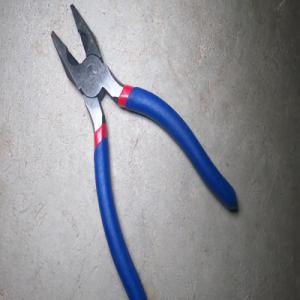Pliers: (50, 3, 238, 300)
